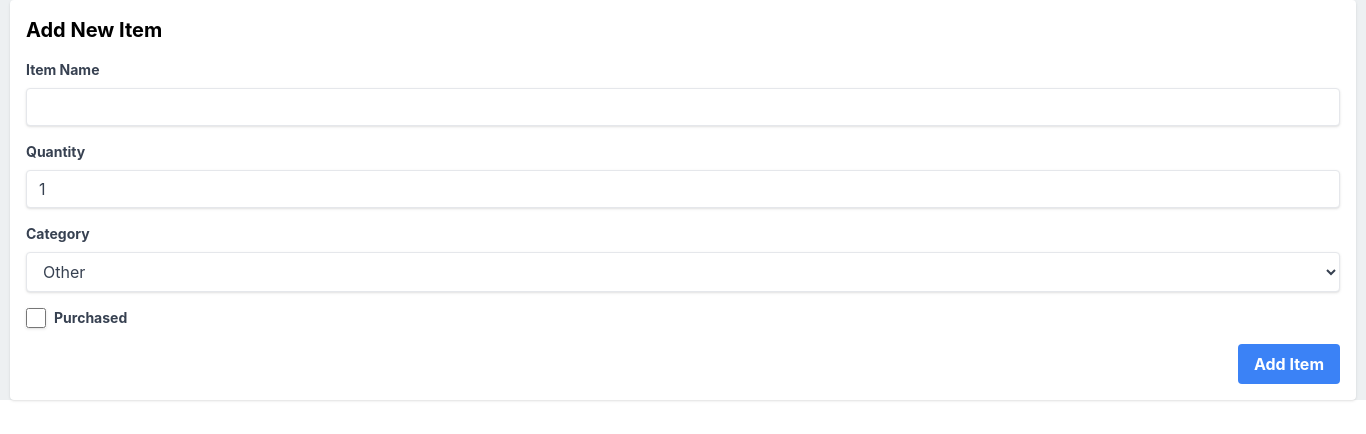
ItemForm › validates form inputs
# Attempt to submit the form without filling in the inputs
Step 1. Click the button "Add Item" → (1289, 364), box 1238,344 -> 1340,384
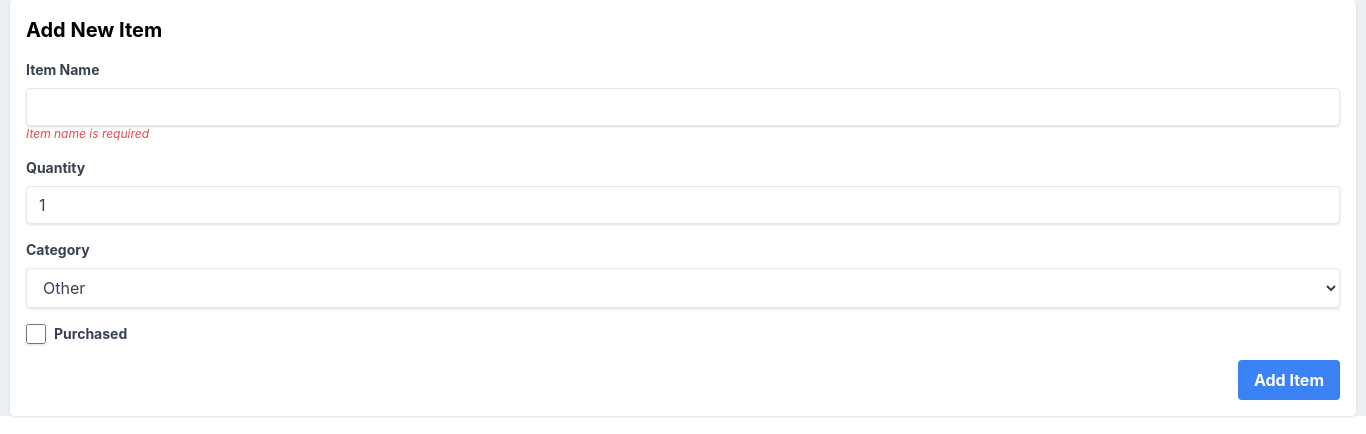
Now the text "Item name is required" is shown, box 26,126 -> 149,141
